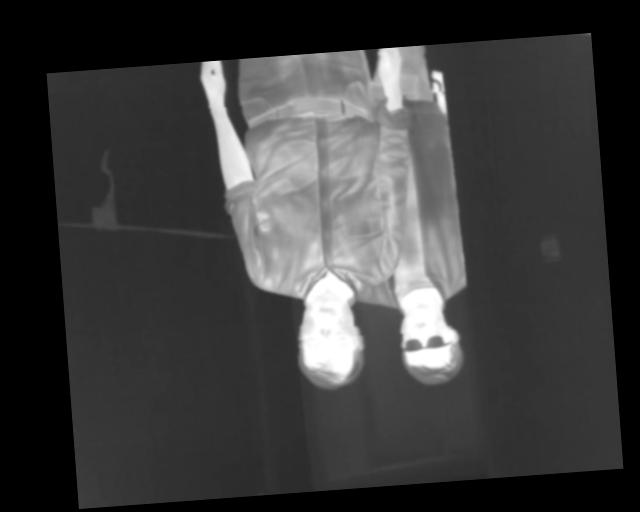face: (290, 290, 368, 392), (395, 302, 464, 388)
